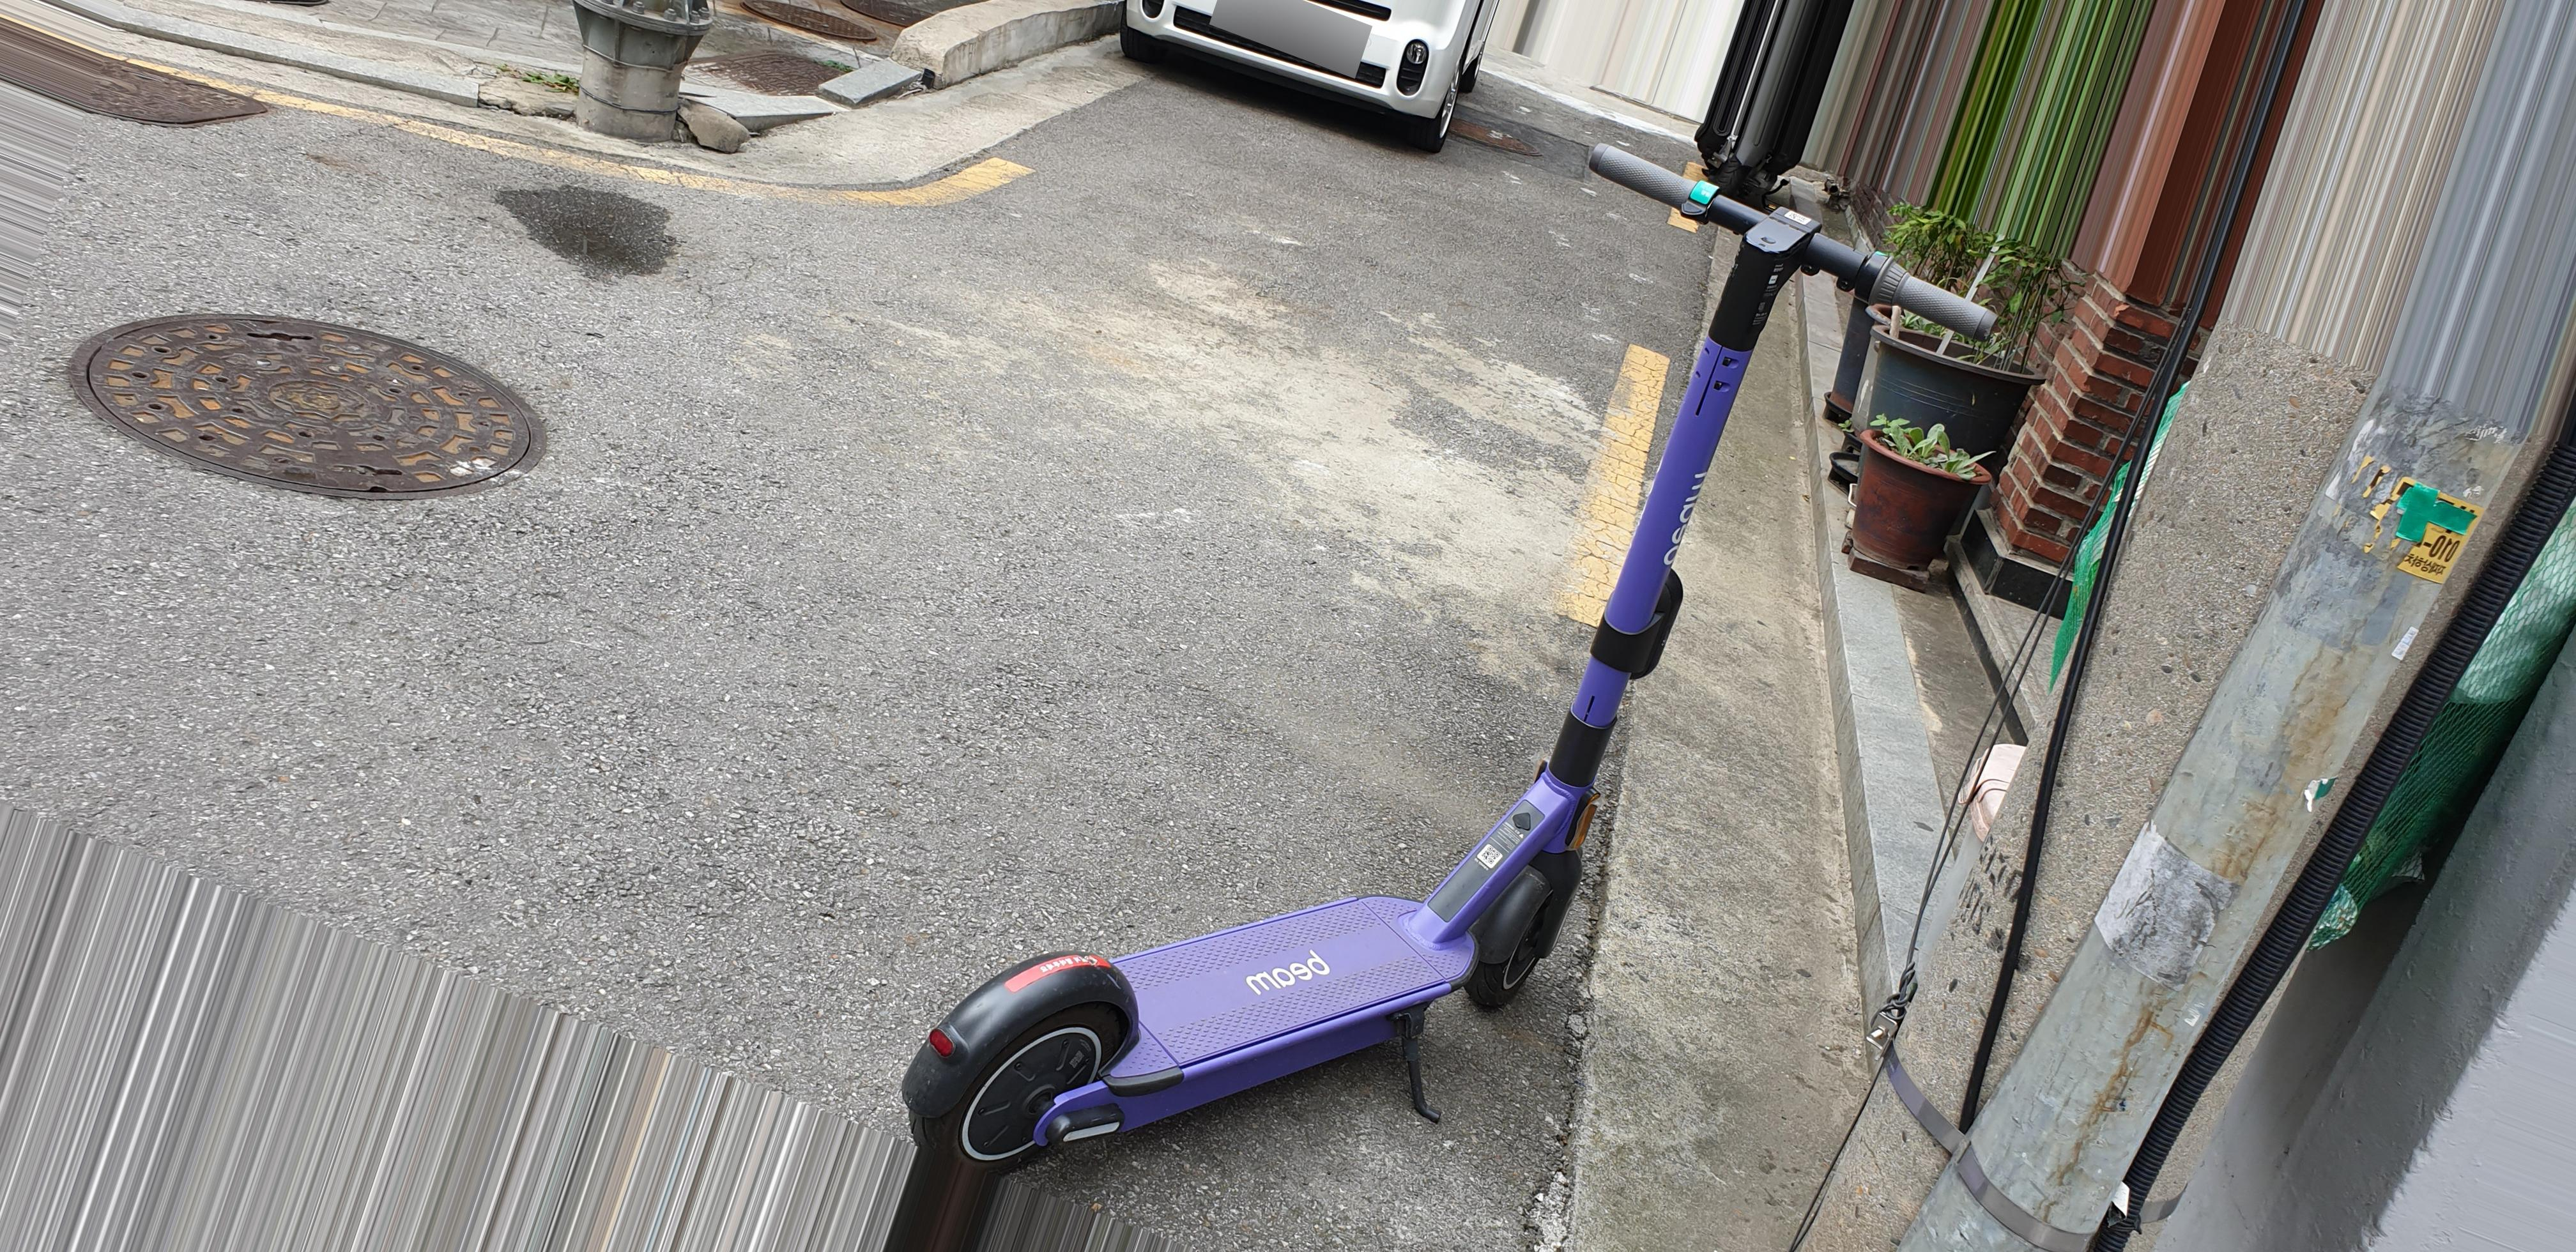scooter: (904, 141, 1999, 1180)
